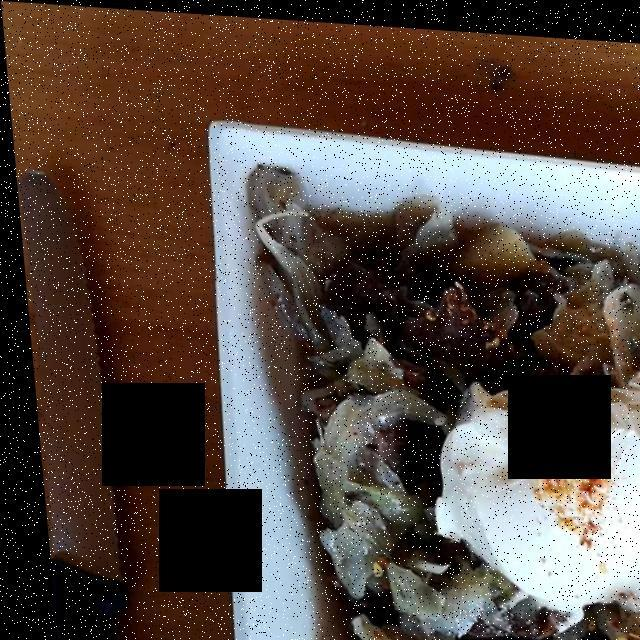cabbage: (256, 184, 640, 640)
sour-cream: (424, 363, 640, 609)
